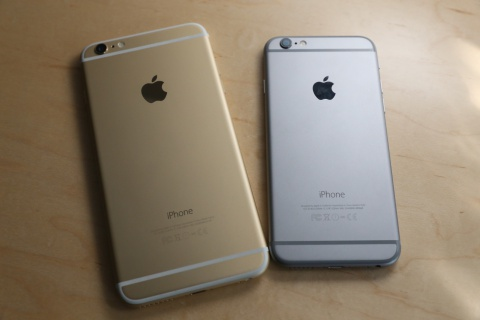apple: (124, 70, 173, 113), (307, 64, 344, 110)
